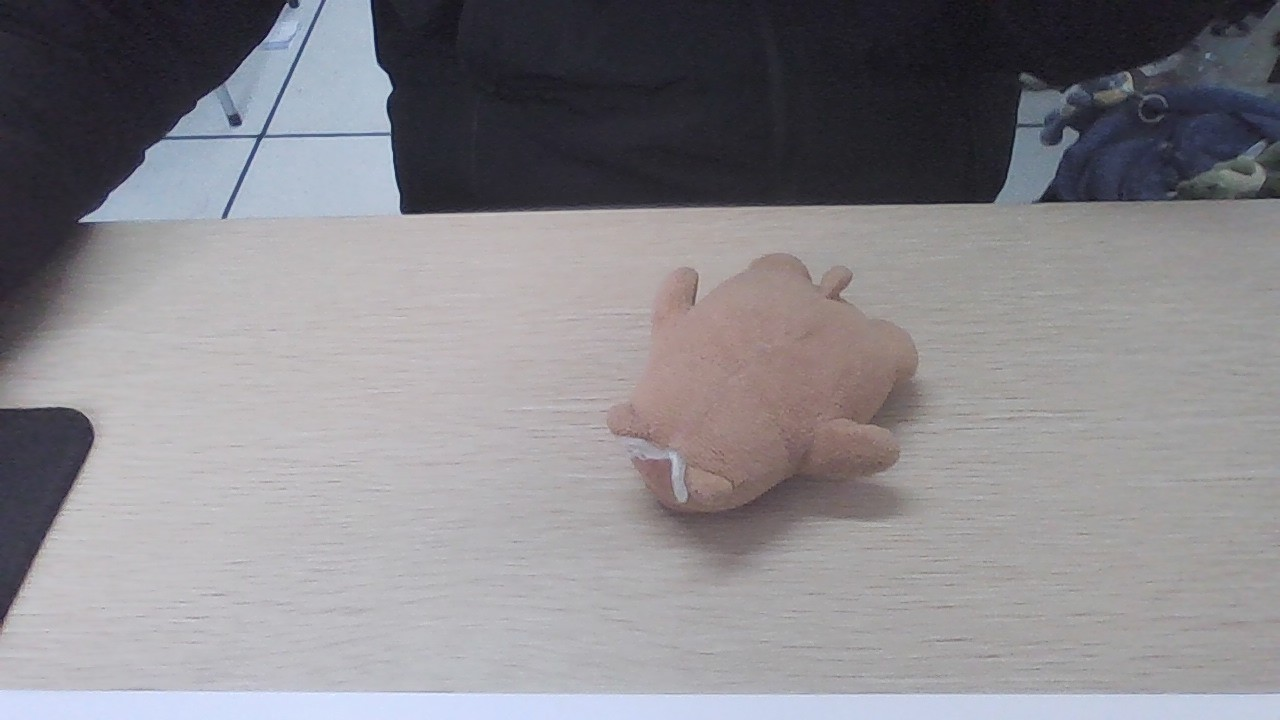KHS-doll: (628, 262, 886, 495)
